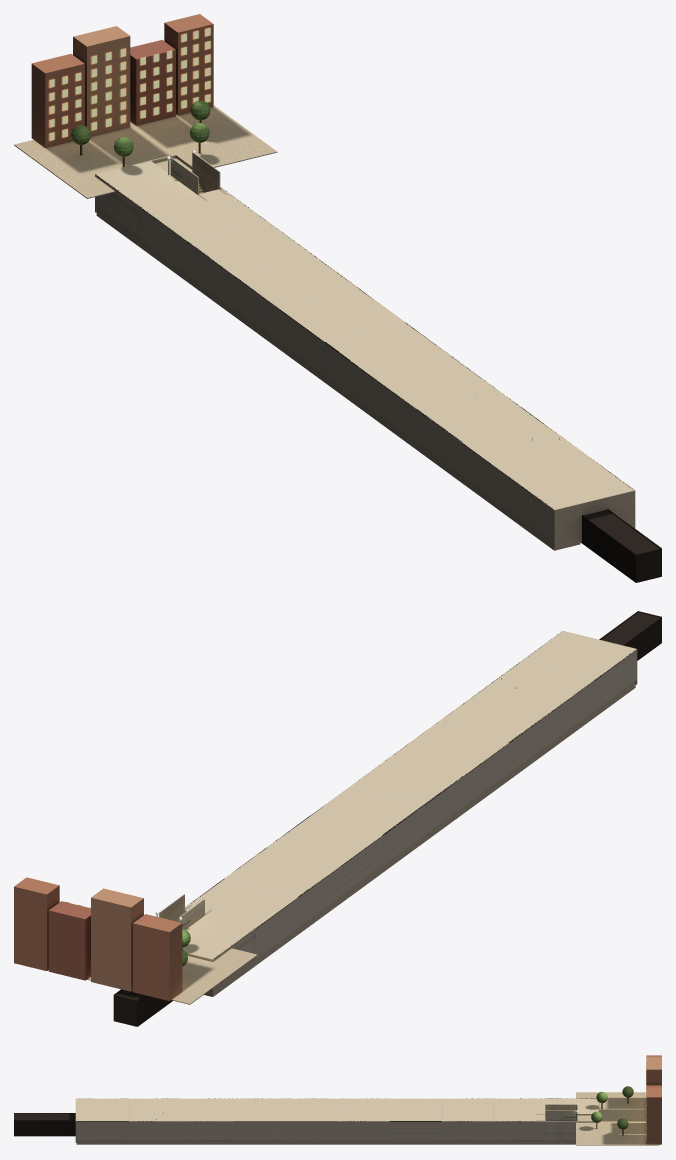
The model's file is station.glb.
3 views of the same model, one above another, from view 1: azimuth 30°, elevation 25°; view 2: azimuth 150°, elevation 25°; view 3: azimuth 270°, elevation 25° (orthographic). The views are drawn at different scales.
Parts seen in each view (by area): view 1: chunk_10, chunk_01, chunk_09, chunk_05, chunk_08, chunk_04, chunk_06, chunk_03, chunk_07, chunk_02; view 2: chunk_10, chunk_01, chunk_04, chunk_02, chunk_03, chunk_05, chunk_08, chunk_07, chunk_06, chunk_09; view 3: chunk_10, chunk_01, chunk_06, chunk_03, chunk_04, chunk_05, chunk_07, chunk_08, chunk_02, chunk_09.
Part boxes in pixels (<box>): chunk_10: <box>14,14,277,248</box>; chunk_01: <box>507,456,661,582</box>; chunk_09: <box>141,188,267,282</box>; chunk_05: <box>324,322,450,416</box>; chunk_08: <box>187,222,313,315</box>; chunk_04: <box>370,356,496,449</box>; chunk_06: <box>279,289,404,382</box>; chunk_03: <box>416,389,542,483</box>; chunk_07: <box>233,255,359,349</box>; chunk_02: <box>462,423,587,516</box>; chunk_10: <box>14,877,257,1026</box>; chunk_01: <box>520,611,661,717</box>; chunk_04: <box>393,724,509,810</box>; chunk_02: <box>477,662,594,748</box>; chunk_03: <box>435,693,551,779</box>; chunk_05: <box>351,755,467,841</box>; chunk_08: <box>224,848,340,934</box>; chunk_07: <box>266,817,382,903</box>; chunk_06: <box>309,786,424,872</box>; chunk_09: <box>184,879,298,965</box>; chunk_10: <box>545,1055,661,1145</box>; chunk_01: <box>14,1098,128,1144</box>; chunk_06: <box>337,1098,389,1144</box>; chunk_03: <box>181,1098,233,1144</box>; chunk_04: <box>233,1098,285,1144</box>; chunk_05: <box>285,1098,337,1144</box>; chunk_07: <box>389,1098,441,1144</box>; chunk_08: <box>441,1098,493,1144</box>; chunk_02: <box>129,1098,180,1144</box>; chunk_09: <box>494,1098,545,1144</box>.
Bounding box in the file's own units: 24 × 15.69 × 124.
10 materials, 10 textured.
